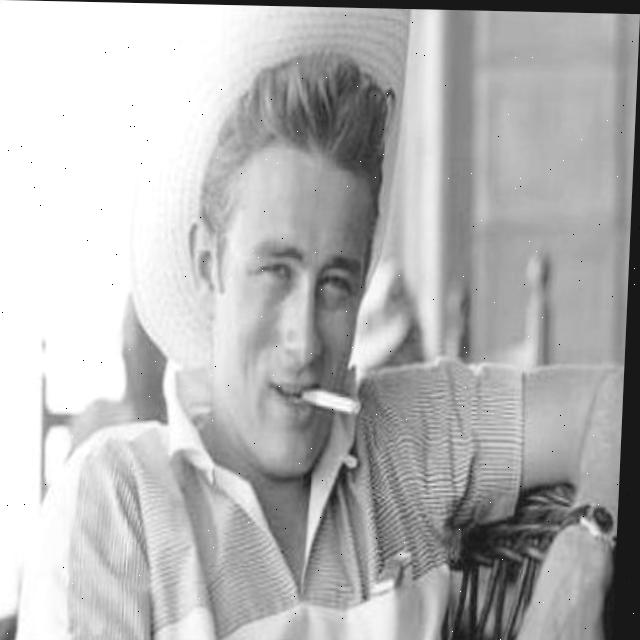cigarette: (306, 387, 366, 414)
